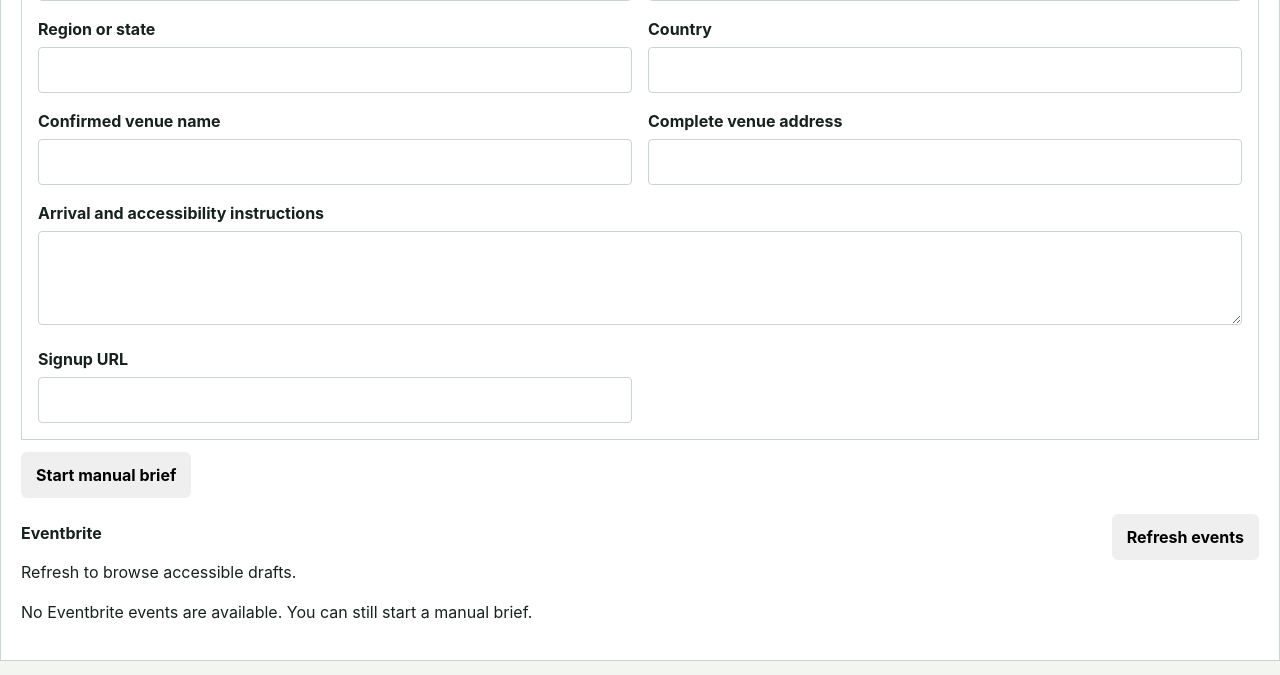
Test: loads more draft pages and shows completion
The width and height of the screenshot is (1280, 675).
(page scrolled)
Step 1. Click the button "Refresh events" → (1185, 537), box [1112,514,1259,560]
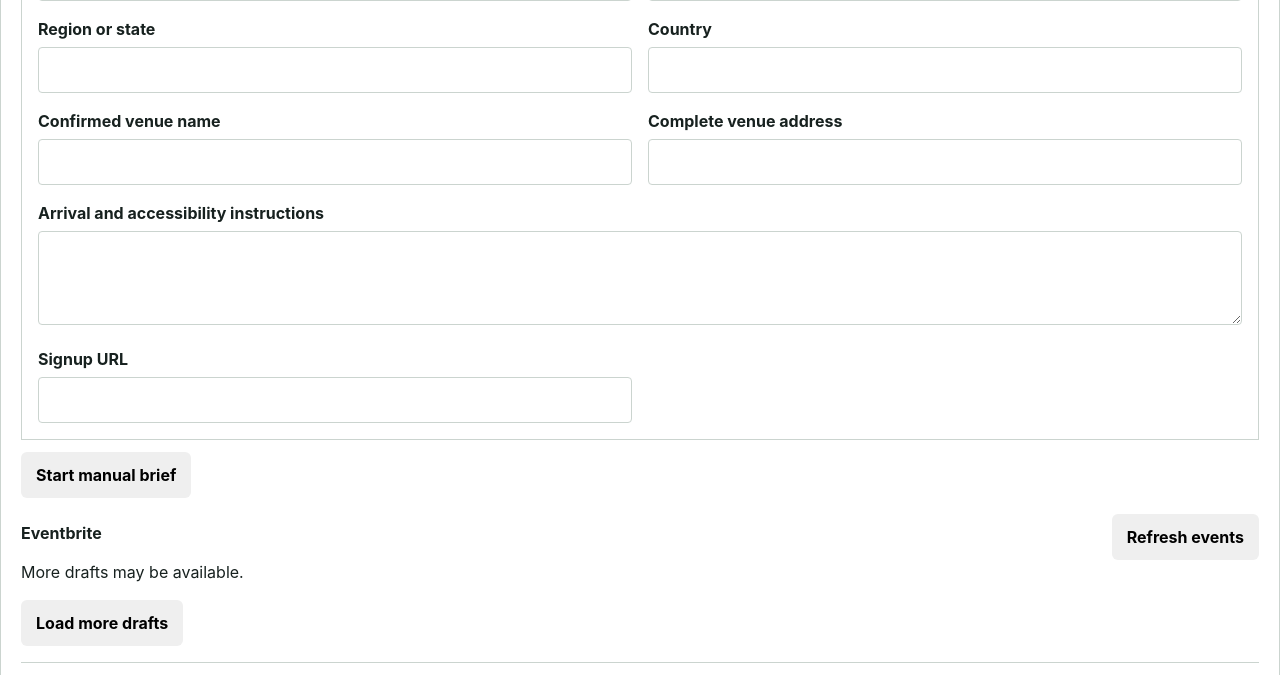
Step 2. Click the button "Load more drafts" → (102, 623), box [21,600,183,646]
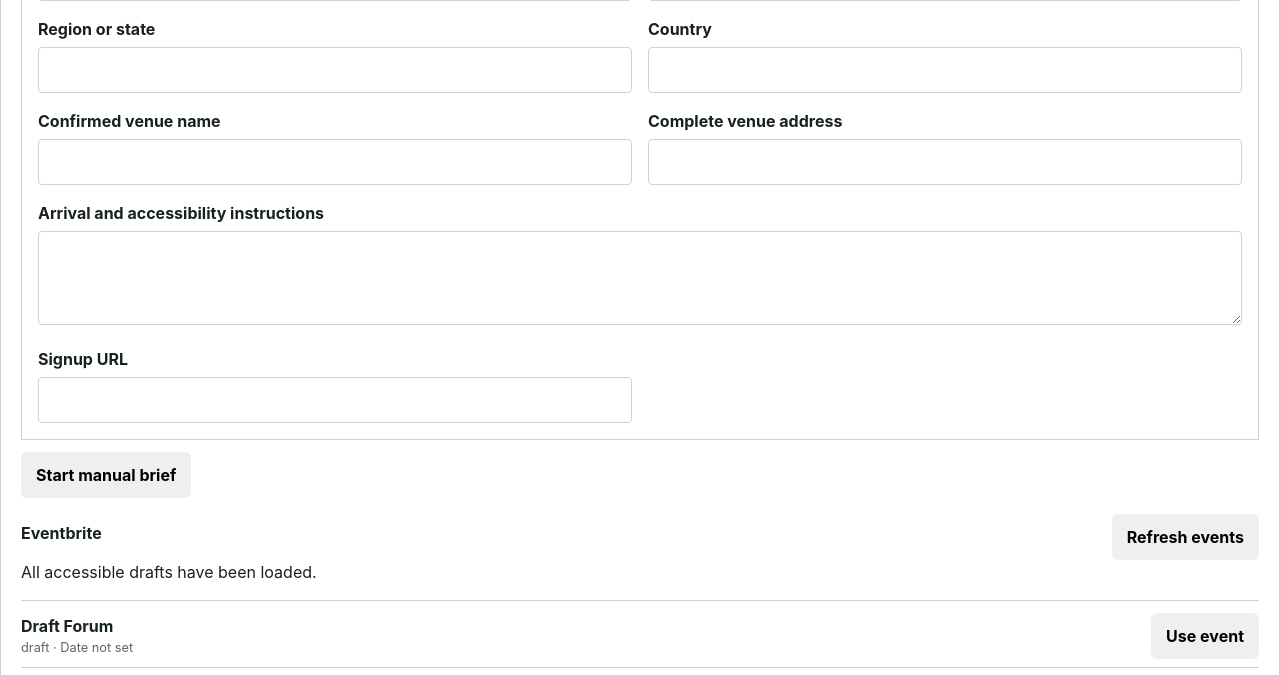
Check: the text "Draft Forum" is shown once, box [21,616,113,636]
Check: the text "All accessible drafts have been loaded." is shown, box [21,562,317,582]
Check: the button "Load more drafts" is gone
